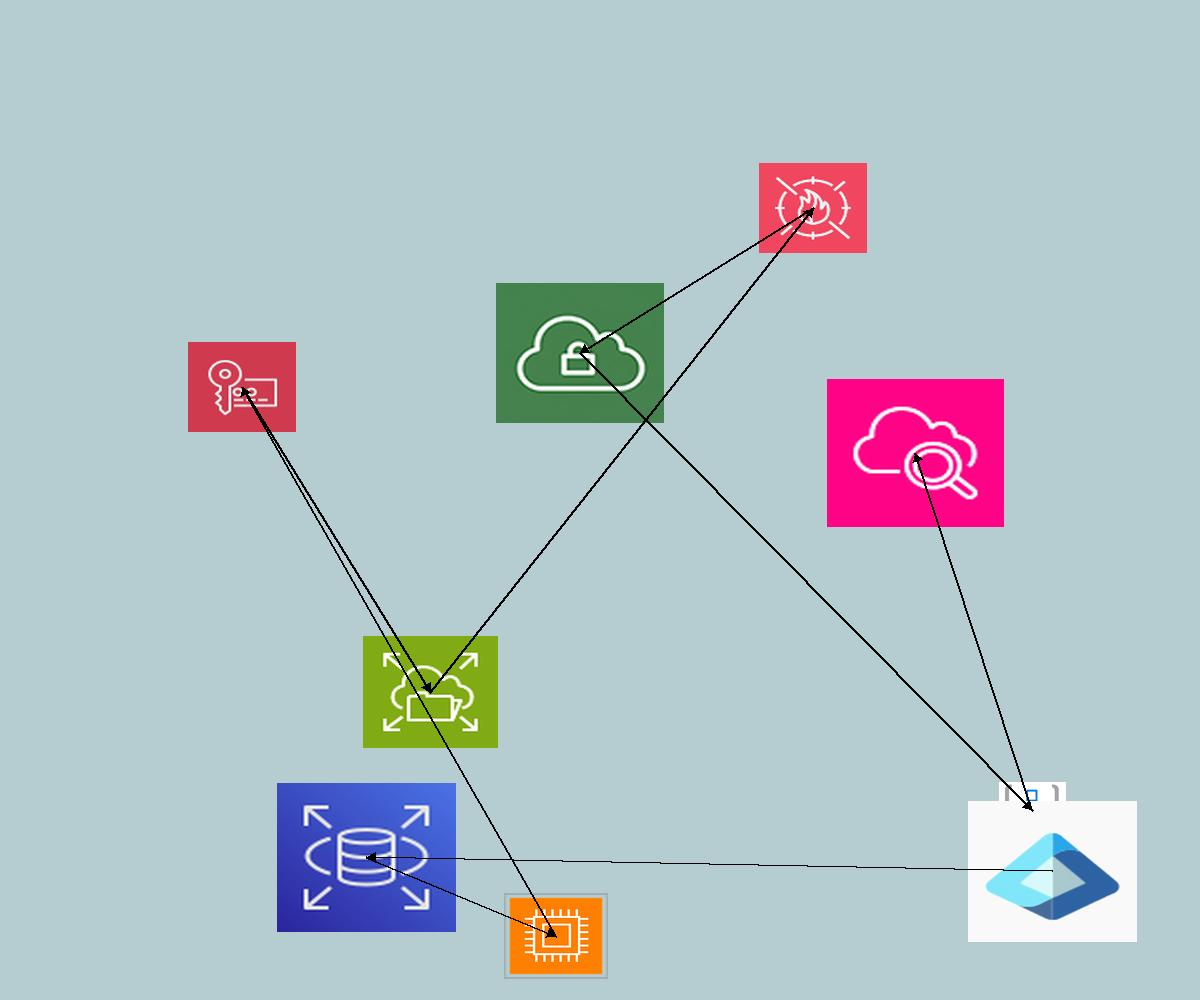AWS-Category_Compute: (504, 893, 608, 979)
AWS-CloudWatch: (827, 379, 1004, 527)
AWS-EFS: (363, 636, 498, 748)
AWS-Key-Management-Service: (188, 342, 296, 432)
AWS-Private_vpc: (496, 283, 664, 423)
AWS-RDS: (277, 783, 456, 932)
AWS-WAF: (759, 163, 867, 253)
Azure_integration-204-Logic-Apps: (999, 782, 1066, 838)
Azure_microsoft_entra: (968, 801, 1137, 942)
